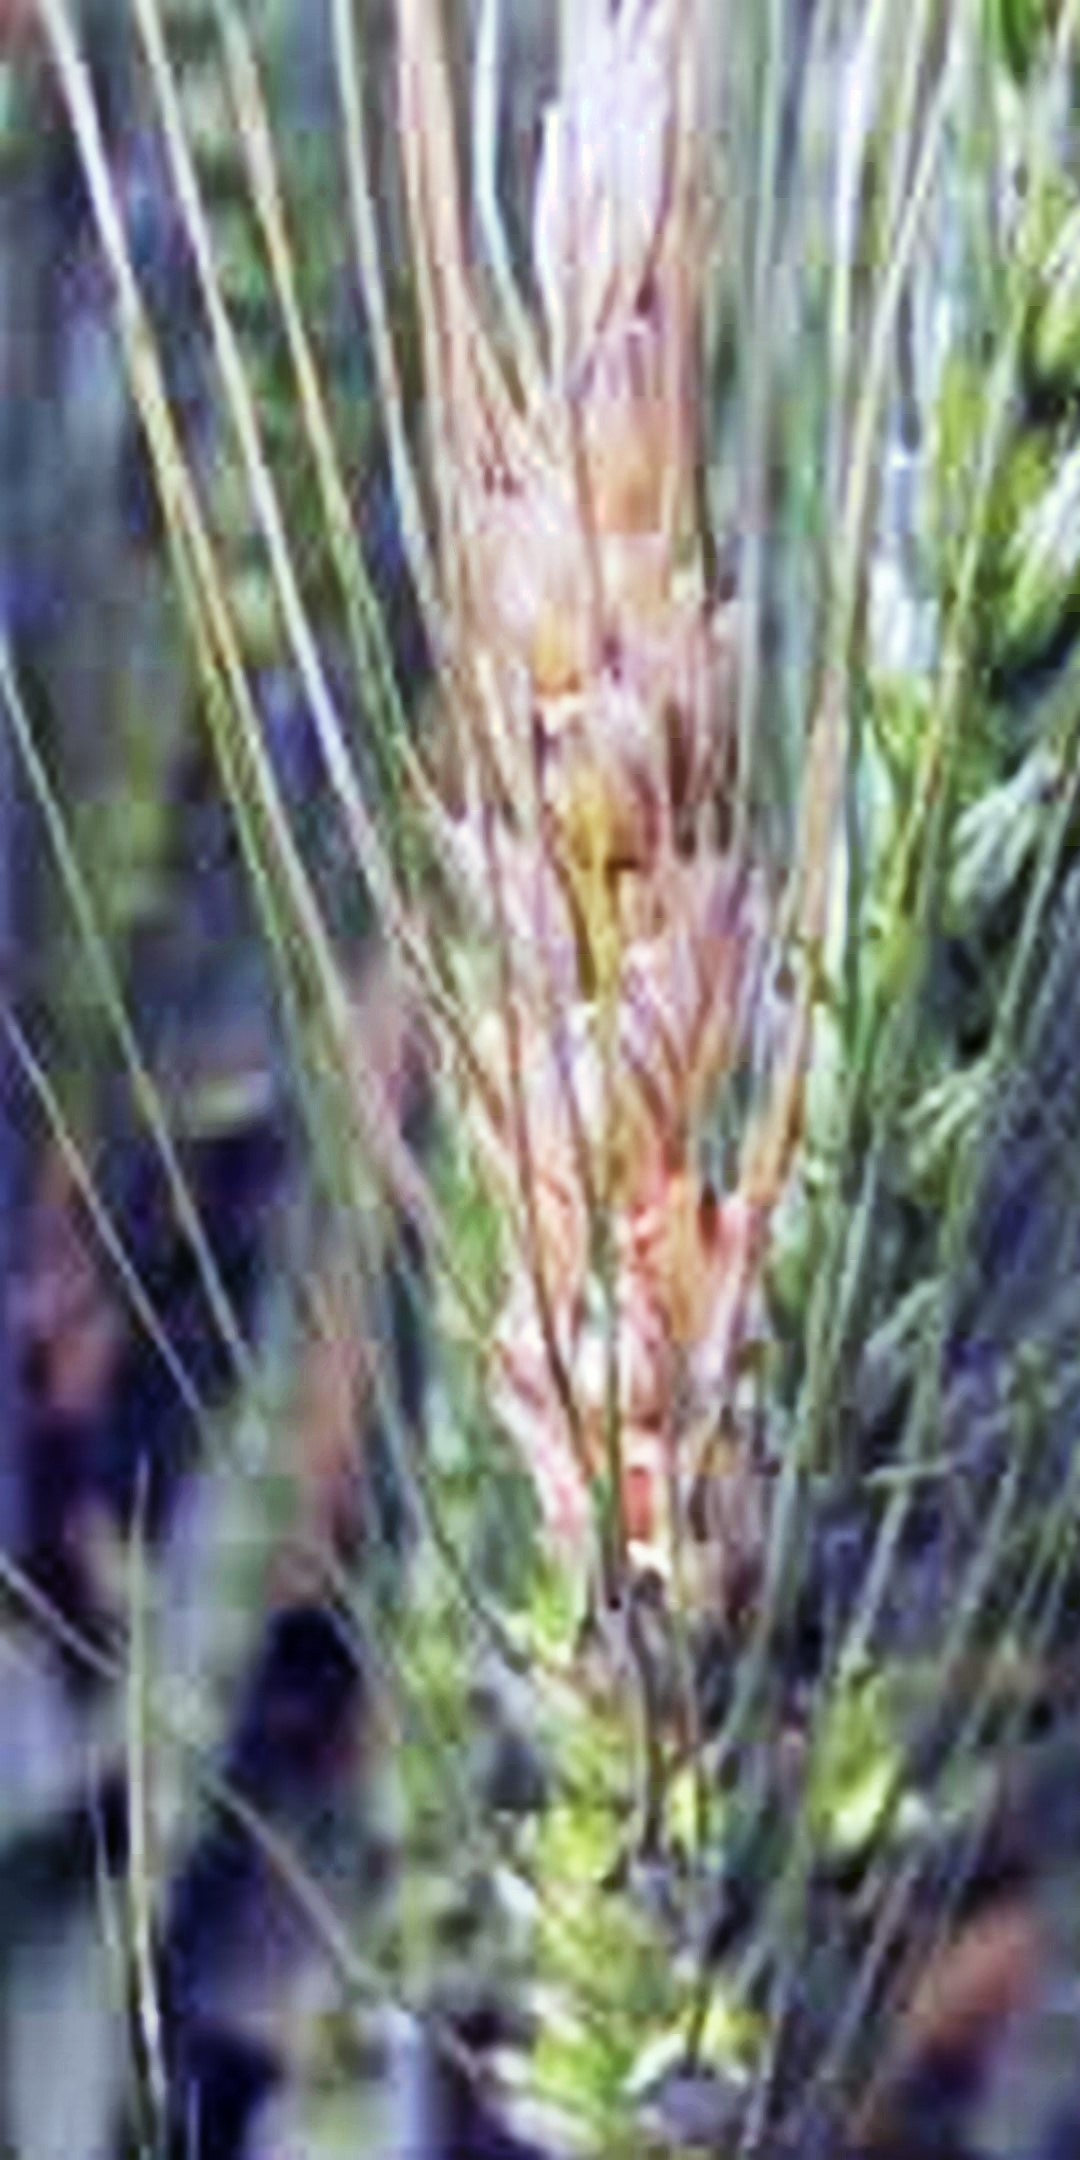Wheat scab: (355, 194, 816, 2088)
